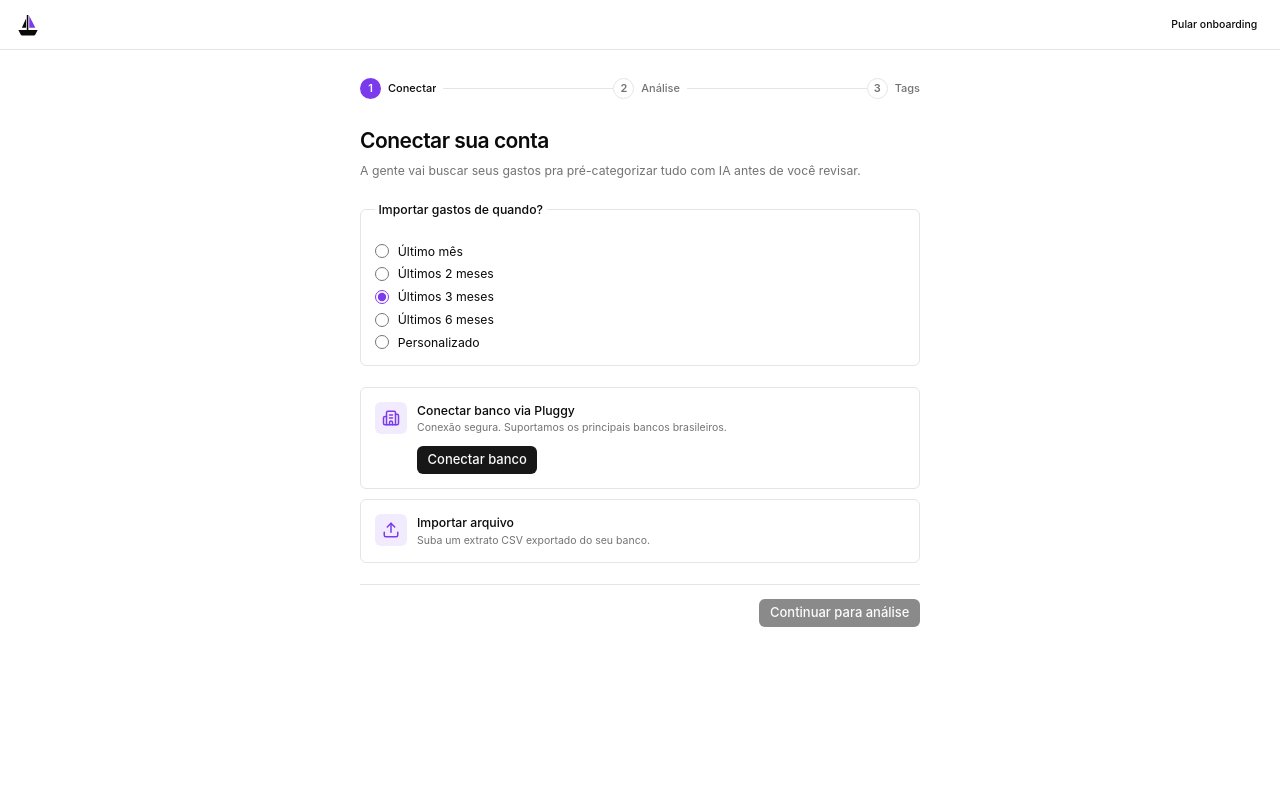
Scenario: <OnboardingPage /> › shows skip-onboarding confirmation dialog
Click the button with test id "skip-onboarding" at (1214, 25), box [1163,12,1266,37]
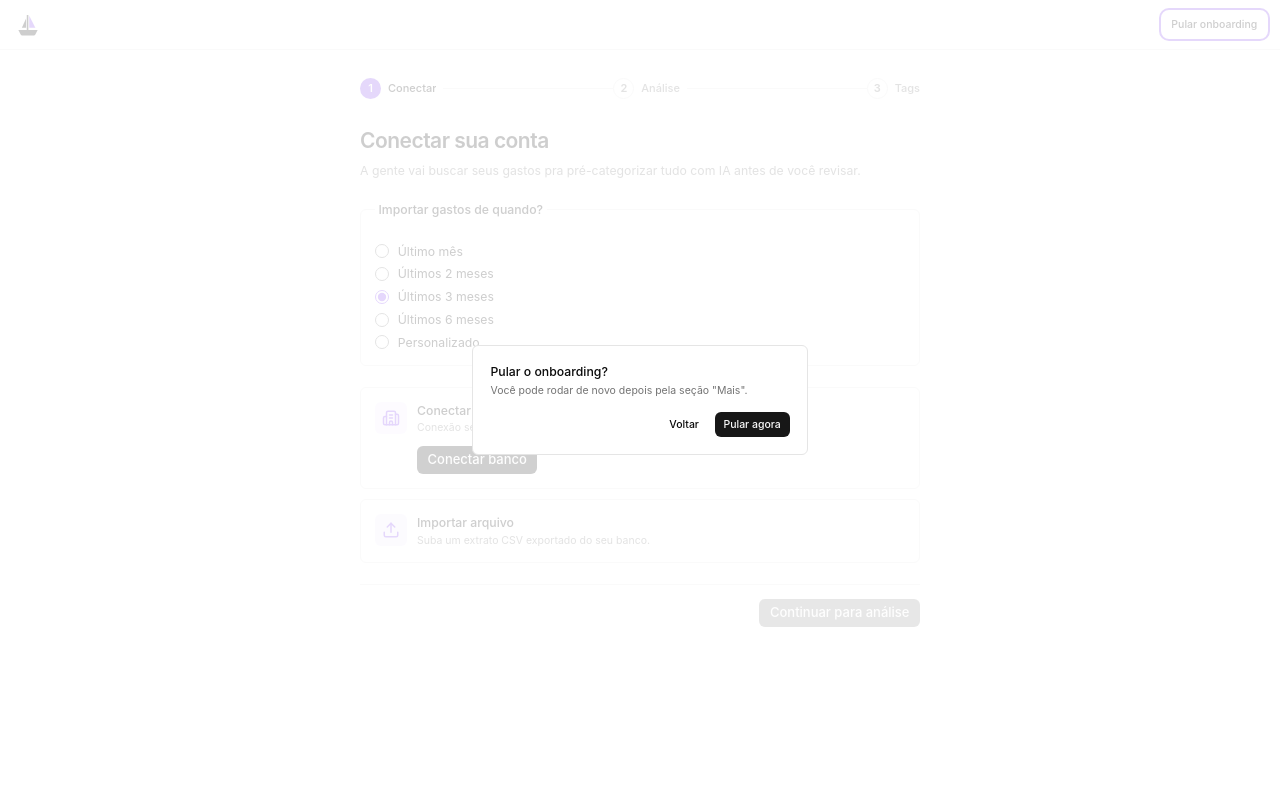
expect the text "Pular o onboarding?" is shown: met, box [490,364,608,379]
